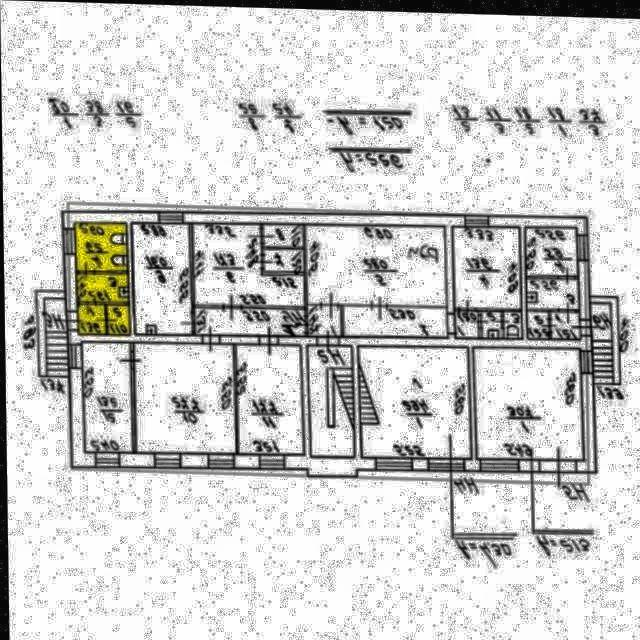room: (472, 341, 582, 459), (358, 344, 469, 456), (132, 340, 234, 453), (304, 223, 446, 304), (190, 223, 305, 306), (235, 342, 301, 453), (131, 221, 191, 335), (454, 222, 519, 307), (83, 340, 130, 452), (307, 342, 353, 456), (342, 303, 447, 335), (194, 306, 304, 335), (74, 221, 128, 271), (524, 223, 577, 273), (526, 274, 578, 306), (591, 299, 610, 380), (76, 273, 128, 302), (45, 297, 64, 375), (306, 303, 340, 334), (263, 222, 303, 245), (263, 247, 302, 270), (549, 309, 580, 336), (78, 303, 103, 334), (455, 307, 477, 336), (106, 305, 128, 334), (526, 309, 547, 337), (481, 308, 500, 335), (503, 308, 521, 336)
